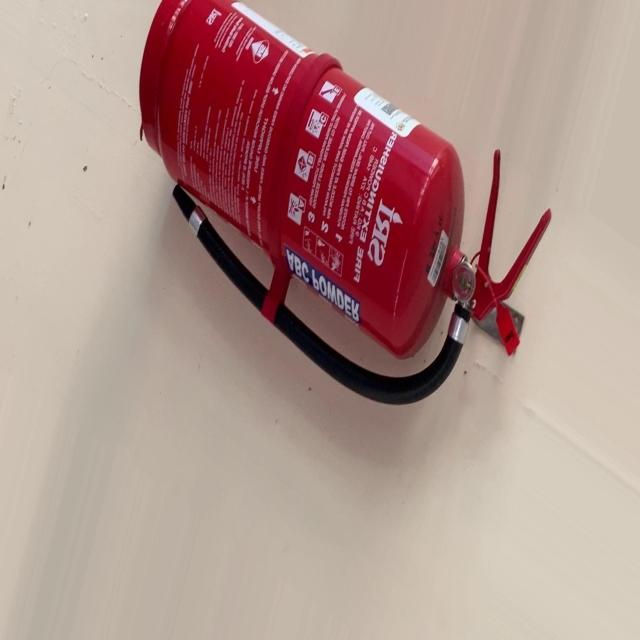fire_extinguisher: (136, 0, 554, 411)
